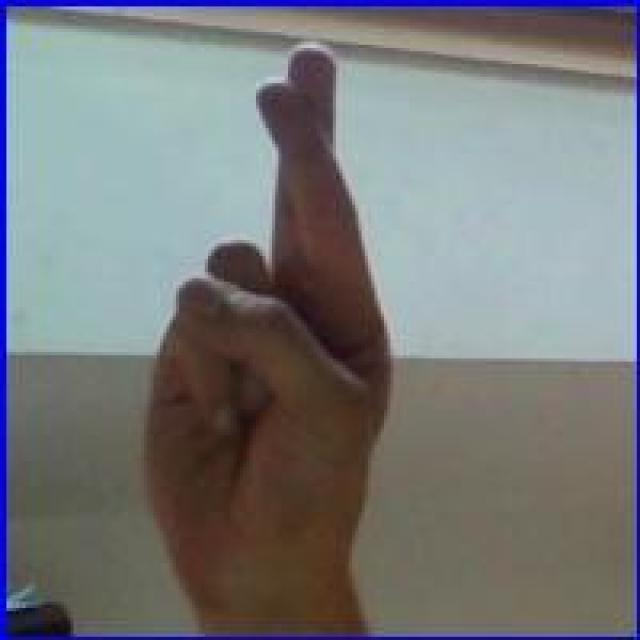R: (138, 35, 400, 560)
